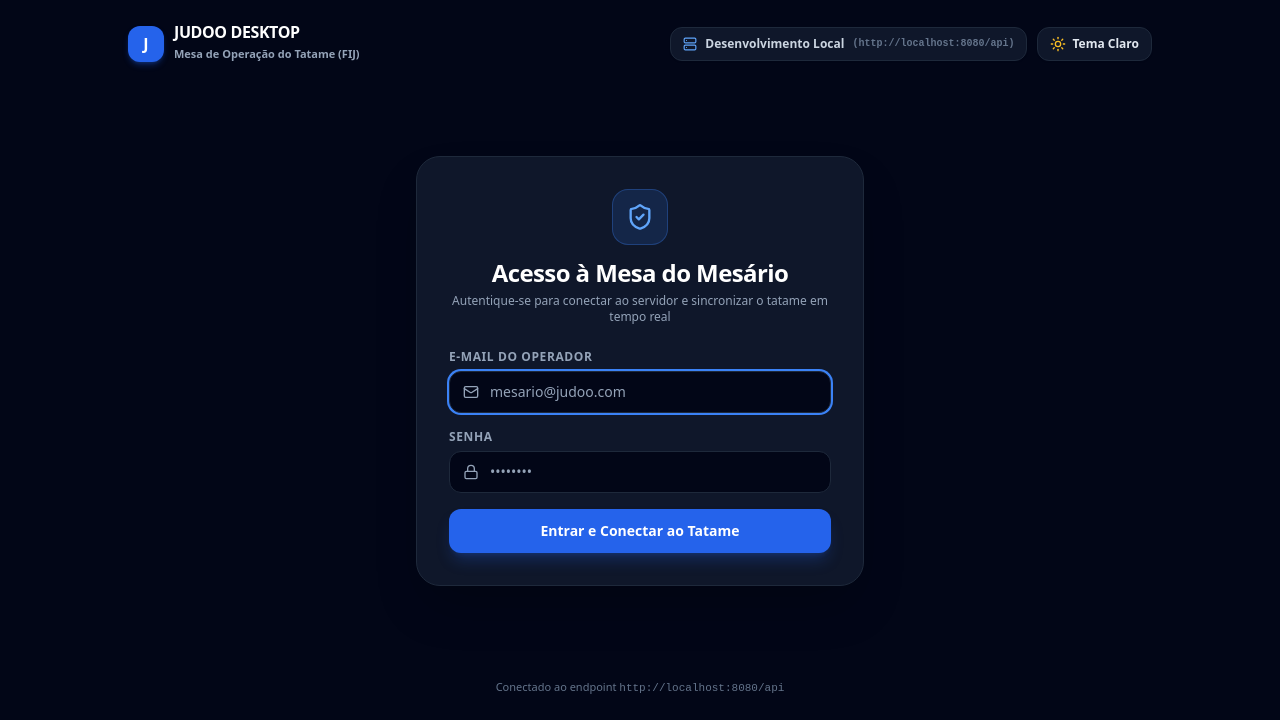
Test: Fluxo de Telas (LoginView -> MesaMesarioView) › exibe erro quando o backend rejeita as credenciais de login
Type "invalido@judoo.com" into the field with placeholder "mesario@judoo.com". click: (640, 392)
box: x1=449 y1=371 x2=831 y2=413
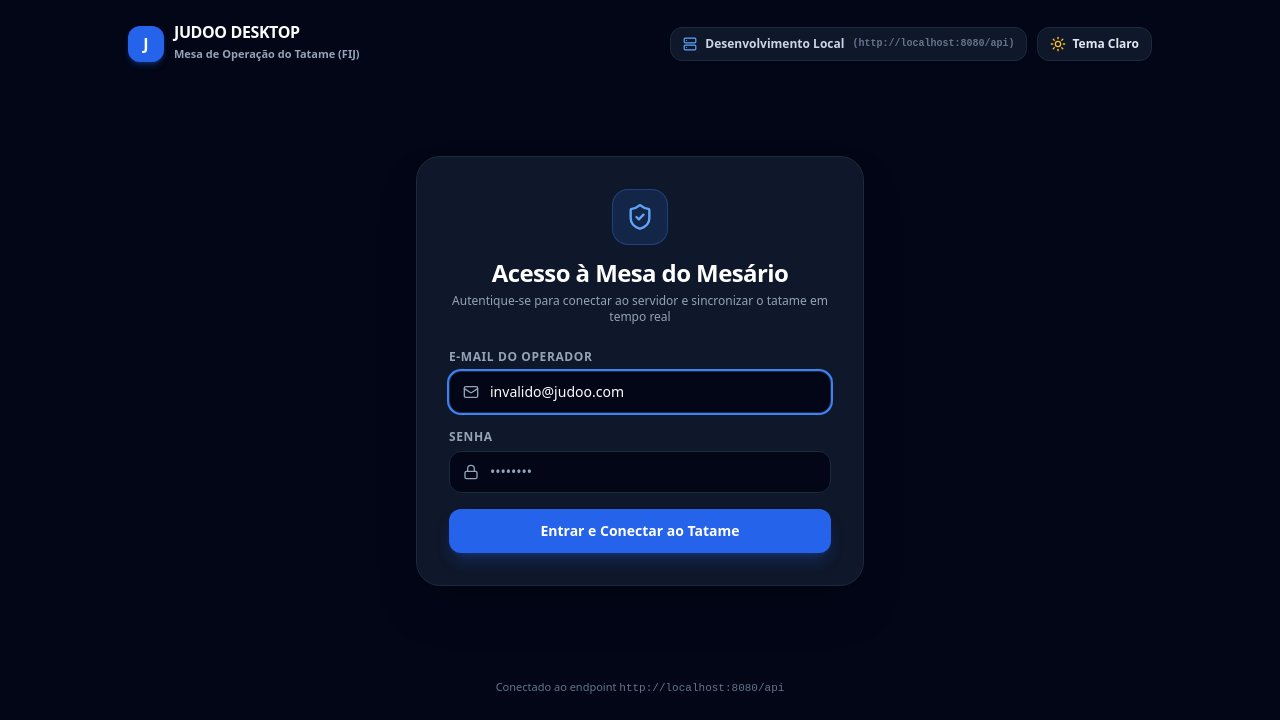
Type "errada" into the password field with placeholder "••••••••". click: (640, 472)
box: x1=449 y1=451 x2=831 y2=493
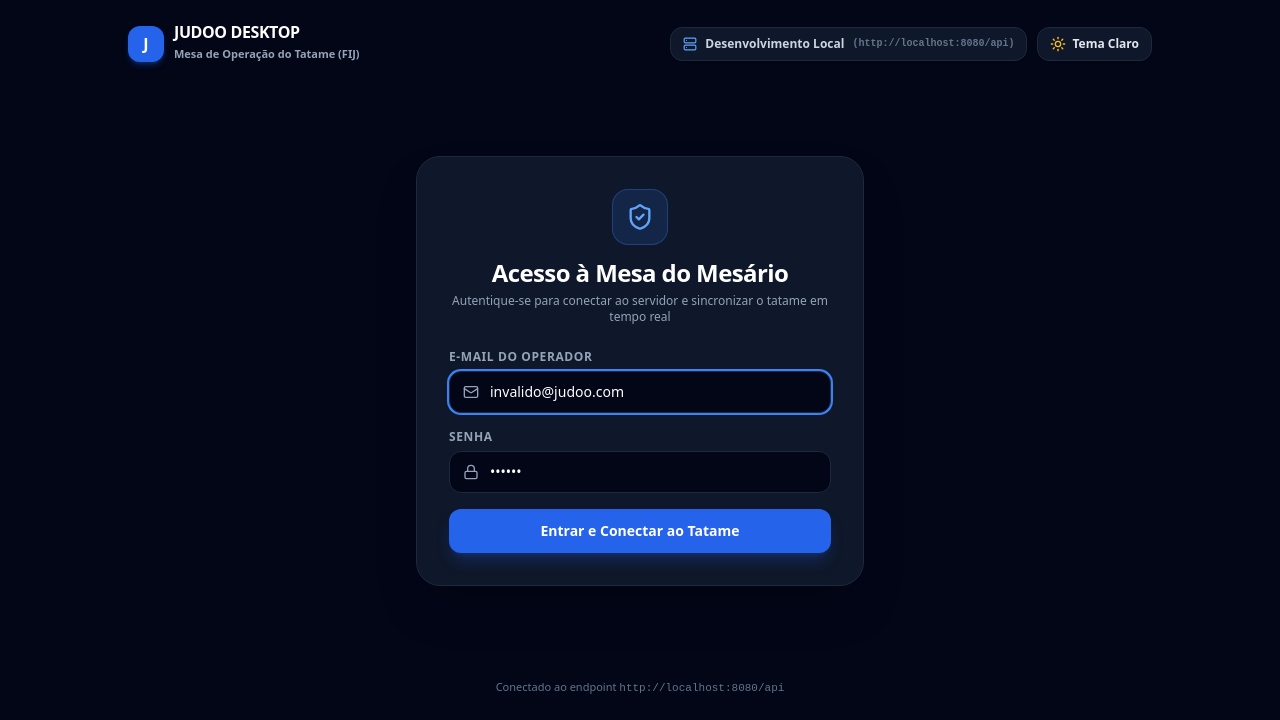
Click the button "Entrar e Conectar ao Tatame". click: (640, 531)
box: x1=449 y1=509 x2=831 y2=553
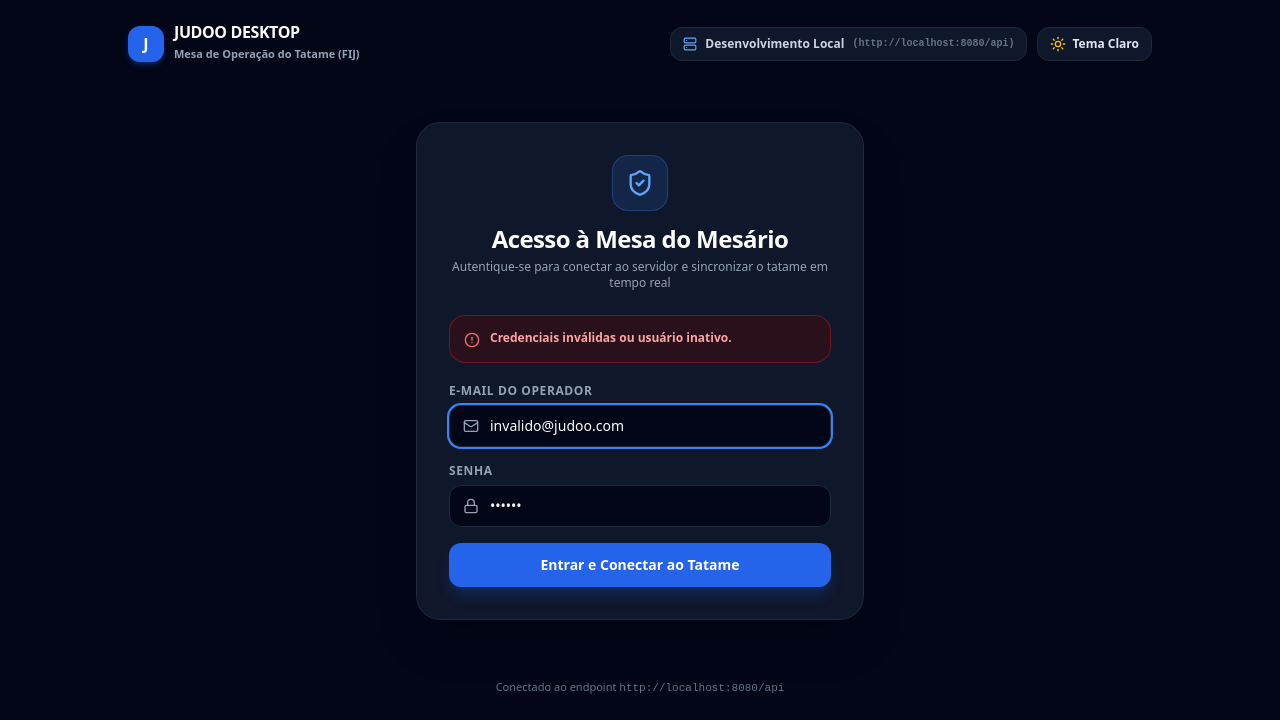
Expected: the text "Credenciais inválidas ou usuário inativo." is shown, x1=490 y1=330 x2=732 y2=346
